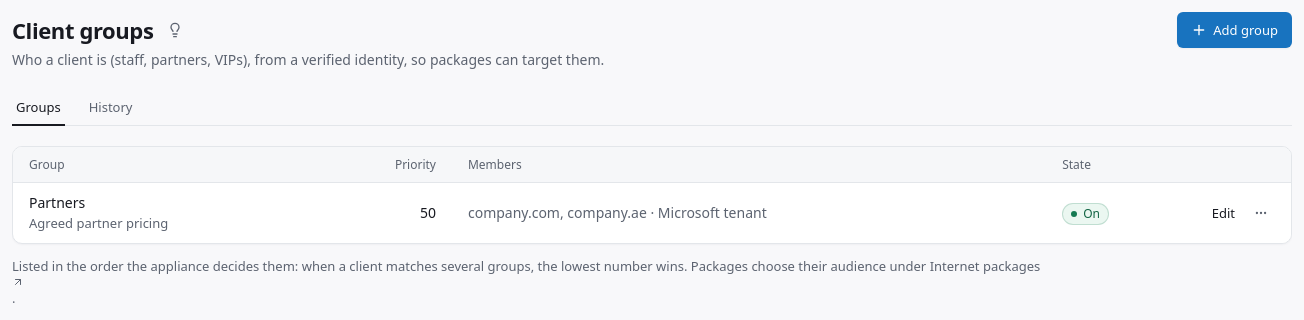
Test: history › reads the change log and shows who, what and why
The image size is (1304, 320).
Check: the text "Partners" is shown, box [29, 193, 85, 212]
Press the mouse on the tab "History" at (111, 108), box [85, 90, 136, 126]
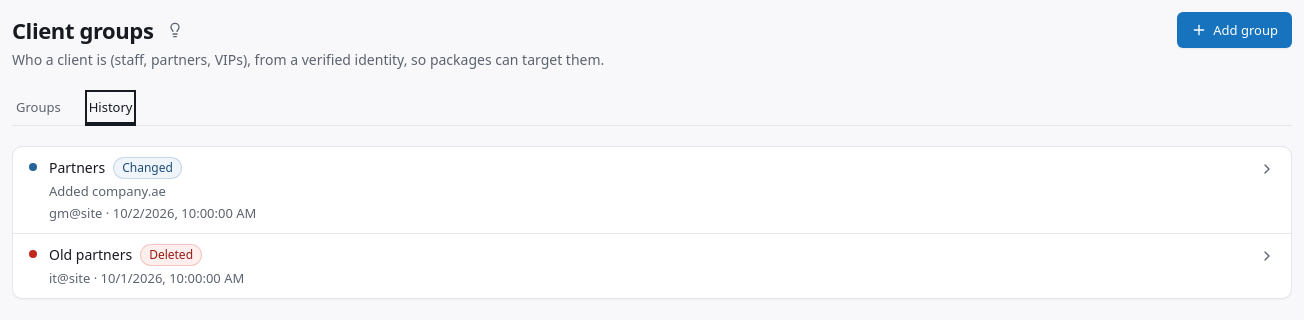
Check: the text "Added company.ae" is shown, box [48, 181, 166, 200]
Check: the text "Changed" is shown, box [113, 157, 182, 179]
Check: the text "Deleted" is shown, box [140, 244, 202, 266]
